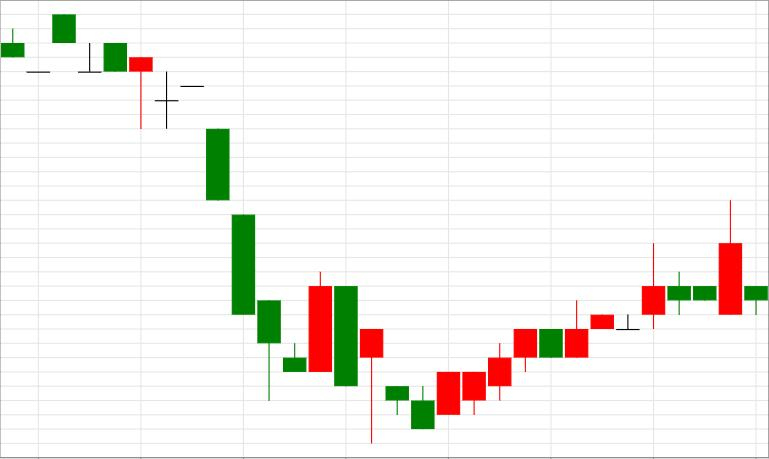hammer_rise: (53, 14, 280, 401)
shooting_star_fall: (437, 243, 665, 416)
